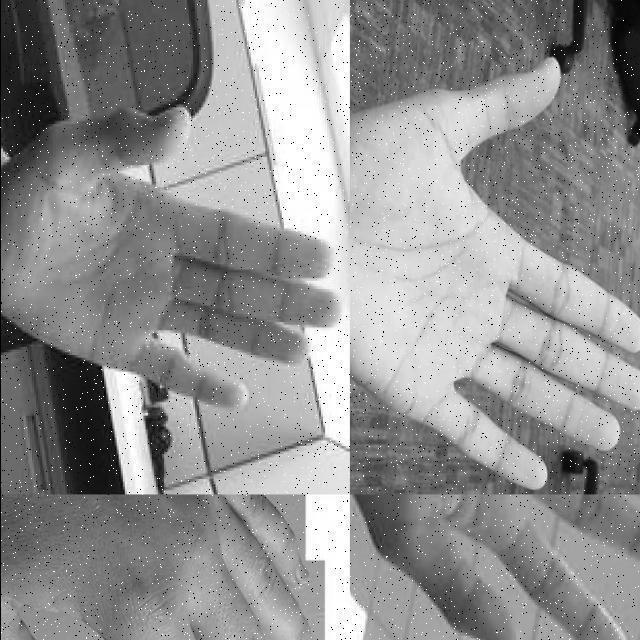hand: (349, 54, 640, 492), (0, 88, 347, 452), (0, 494, 325, 640), (349, 494, 640, 640)
